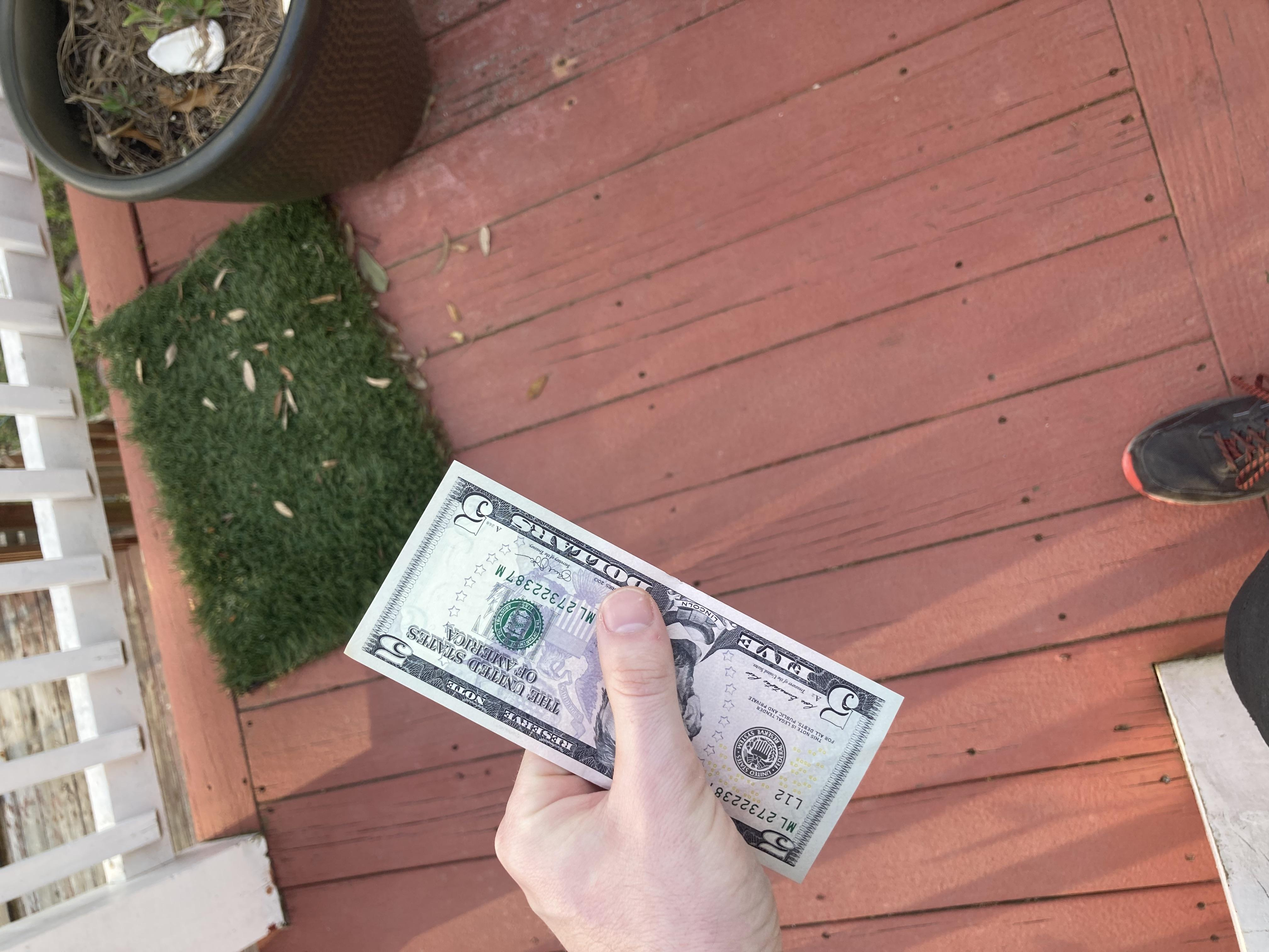five-front: (91, 259, 656, 677)
